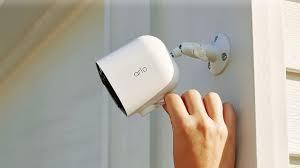Security camera: (95, 30, 232, 118), (170, 30, 232, 75)
